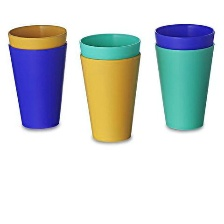glass: (71, 30, 147, 145), (150, 14, 221, 134), (4, 21, 71, 131)
